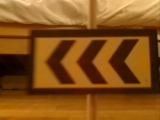left: (30, 31, 158, 91)
